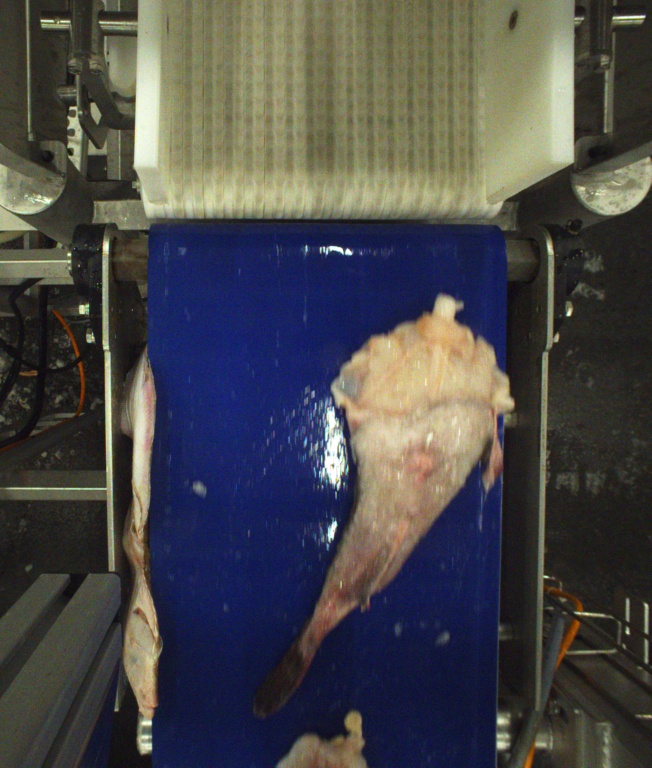ANF: (272, 715, 365, 767)
